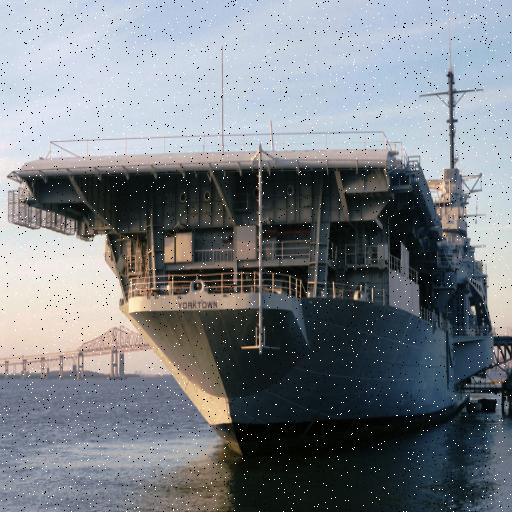Portanaves: (4, 41, 510, 463)
